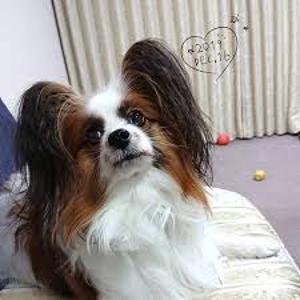yell: (17, 39, 280, 300)
